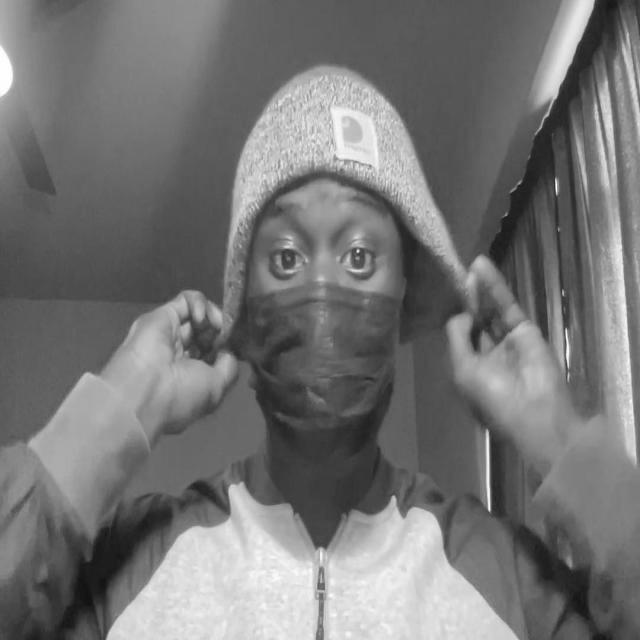real: (242, 173, 402, 451)
